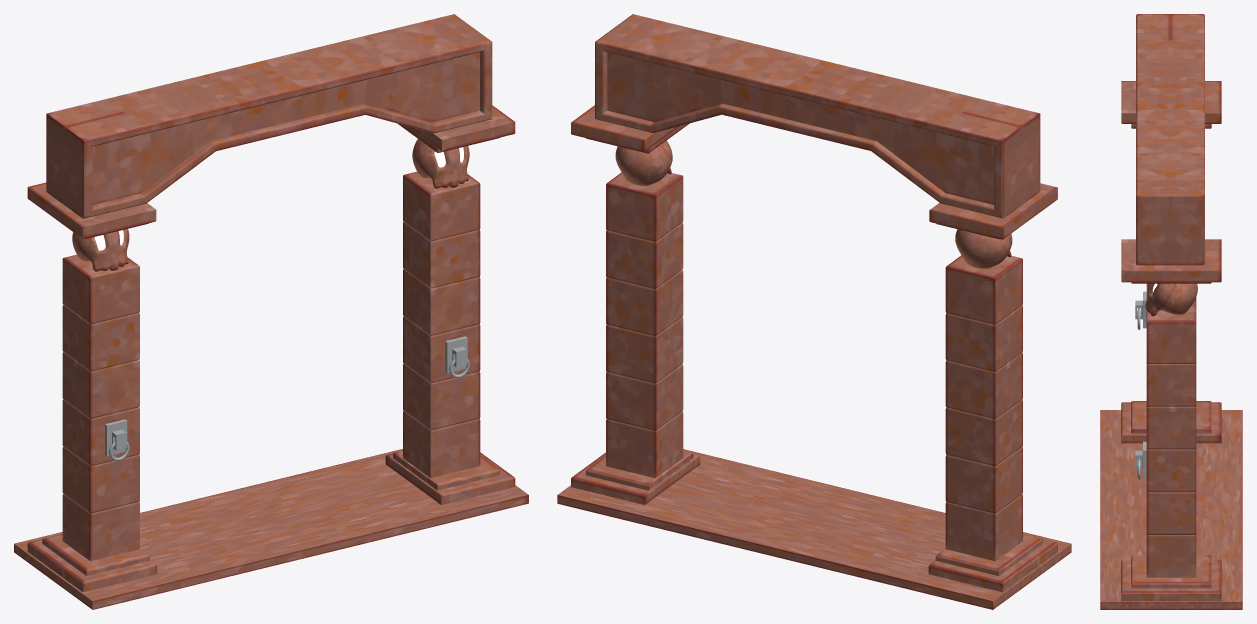
Rendered from MarcoPuertaBoss.fbx.
3 renders of one model, left to right at view 1: azimuth 30°, elevation 25°; view 2: azimuth 150°, elevation 25°; view 3: azimuth 270°, elevation 25°, orthographic. The views are drawn at different scales.
Parts seen in each view (by area): view 1: Sphere.002; view 2: Sphere.002; view 3: Sphere.002.
Boxes of the visible parts, x1=… form: Sphere.002: x1=14, y1=14, x2=528, y2=609; Sphere.002: x1=557, y1=14, x2=1071, y2=609; Sphere.002: x1=1100, y1=14, x2=1242, y2=609.
Size of the model in its own units: 1282 by 1269 by 401.
